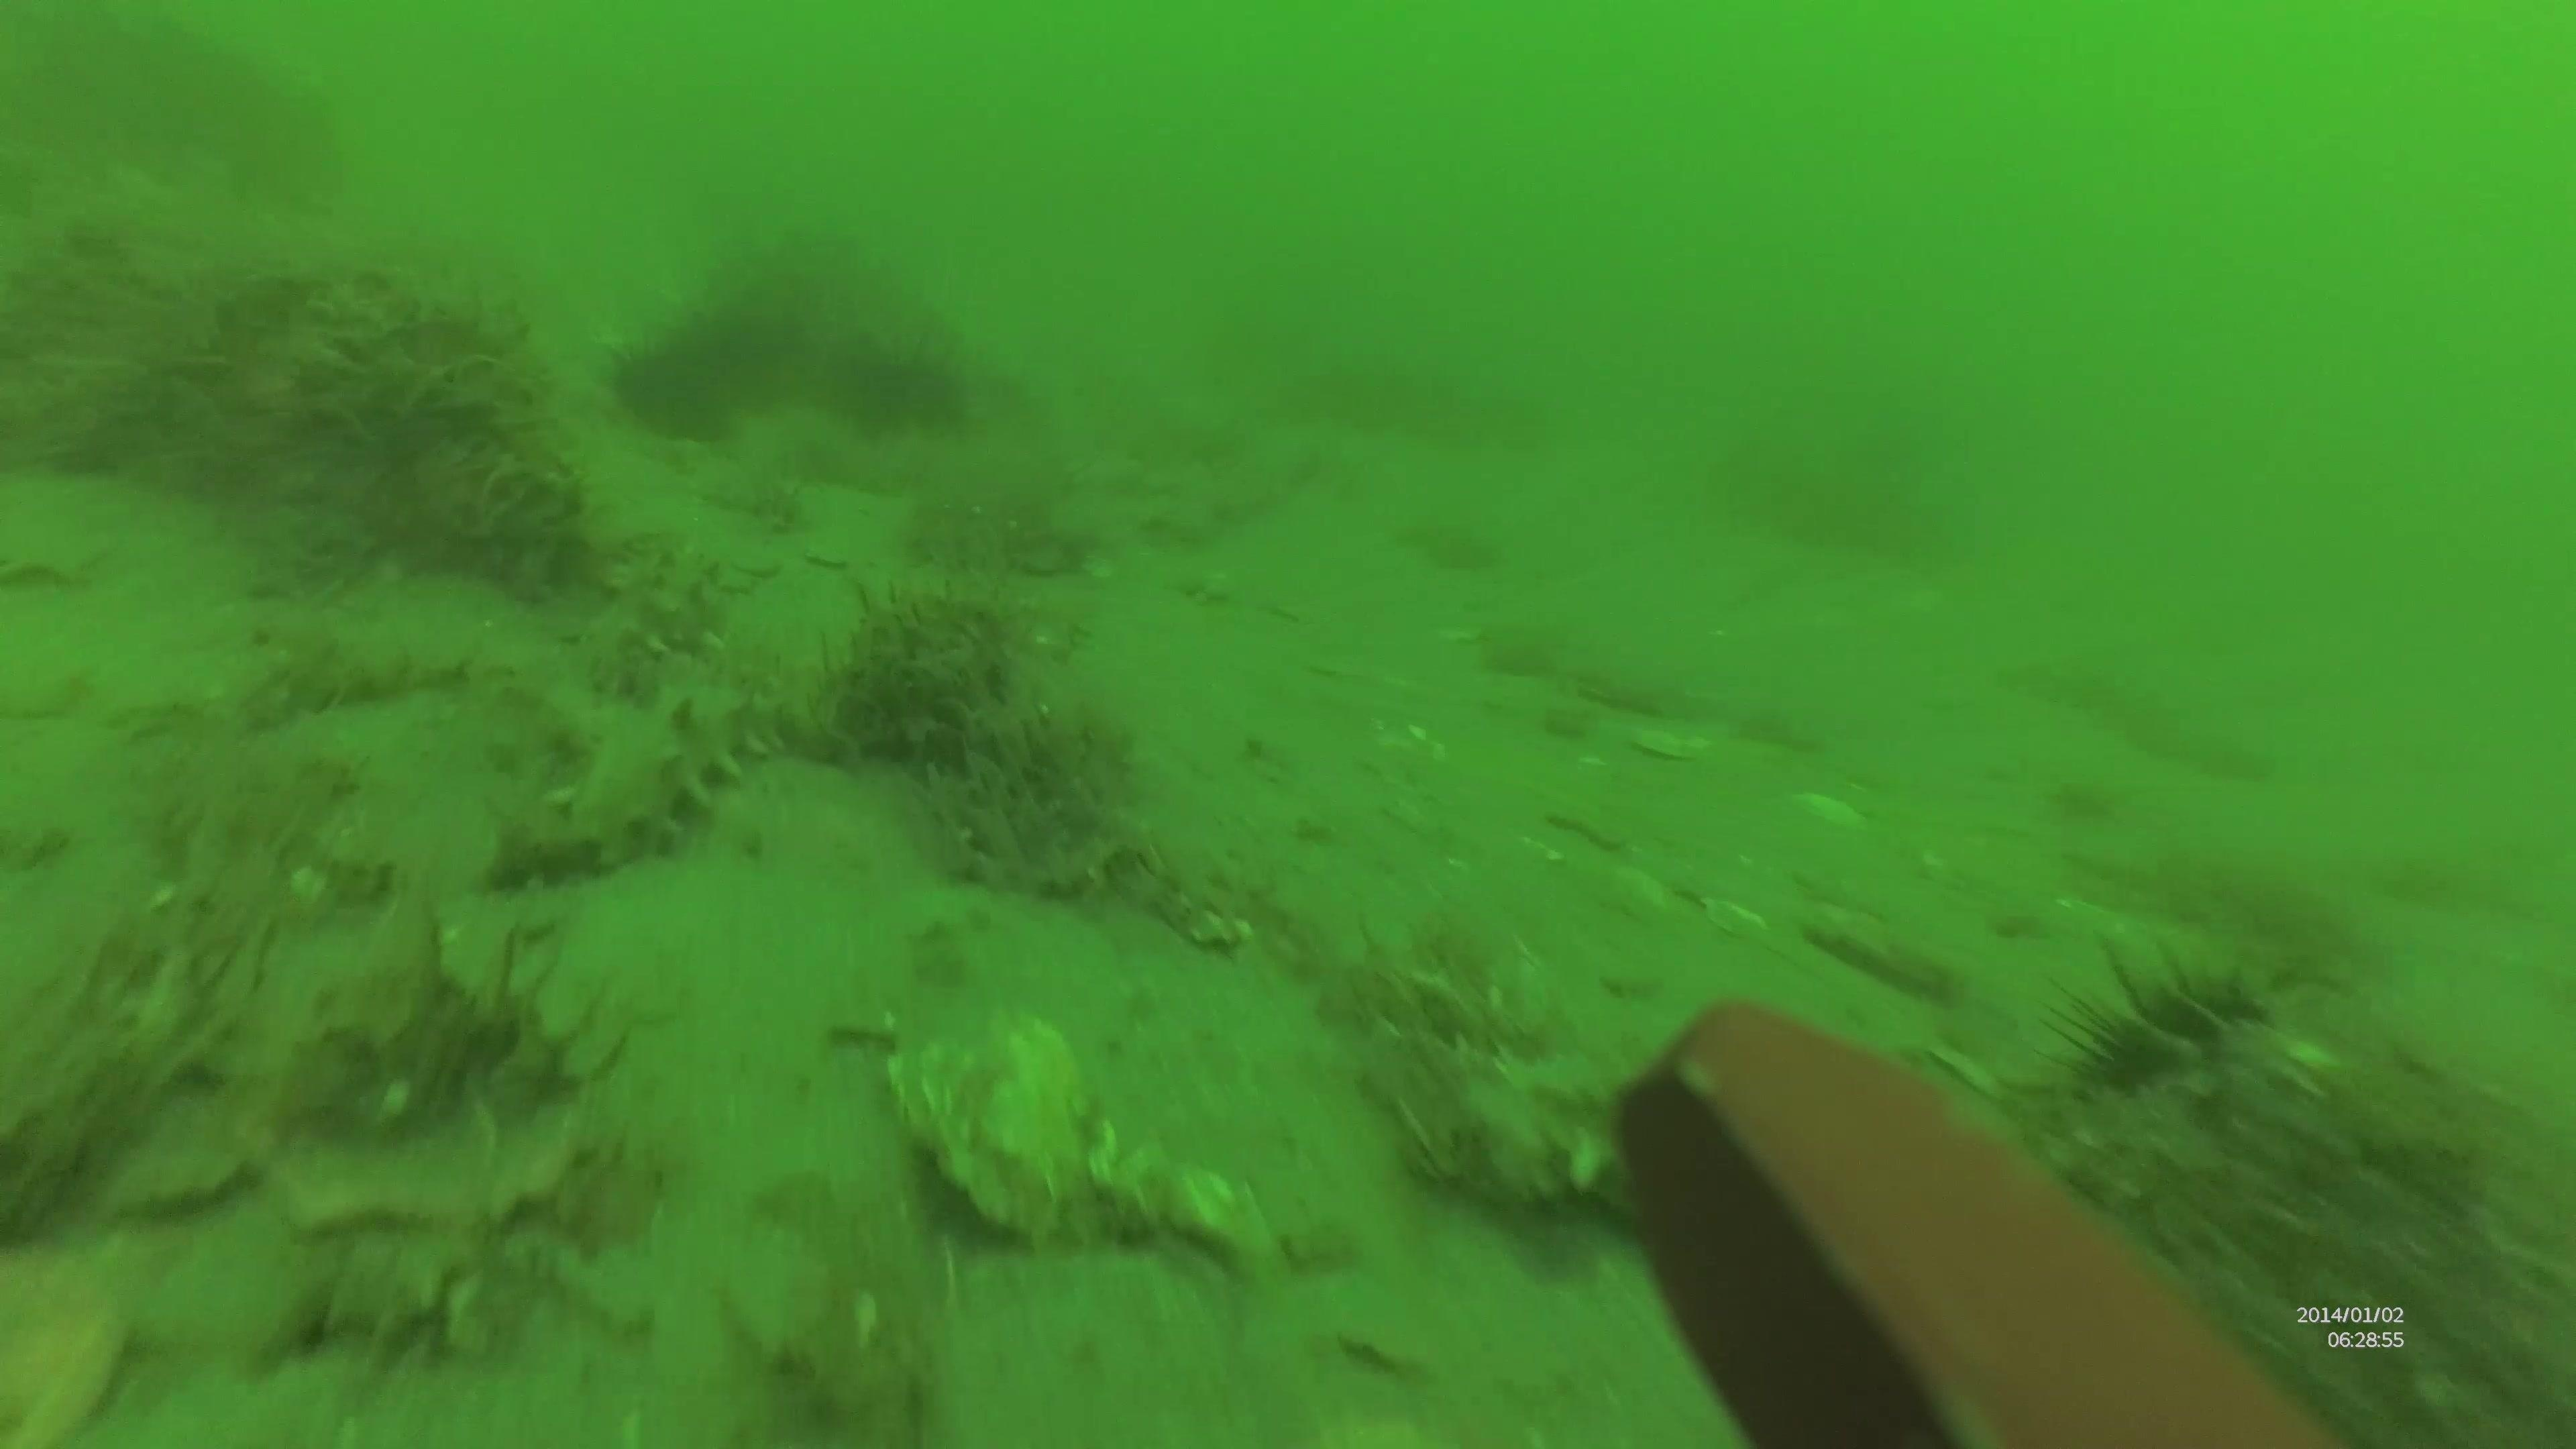echinus: (2038, 941, 2282, 1102)
holothurian: (481, 660, 796, 895), (571, 533, 734, 699)
